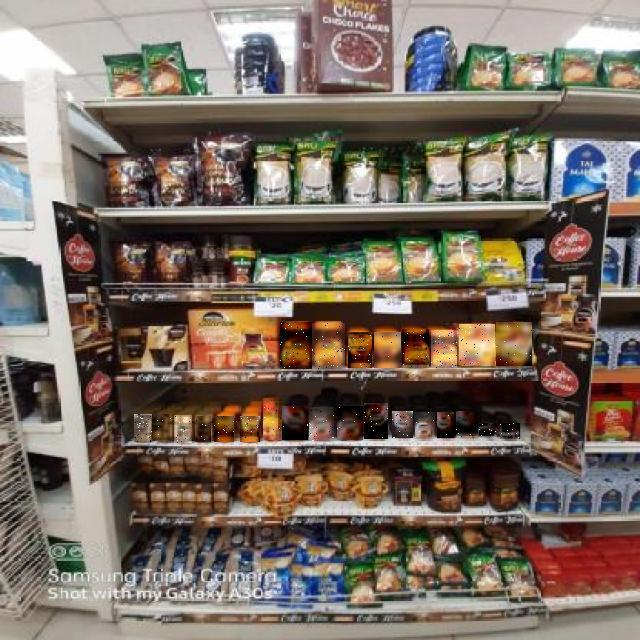Coffee: (496, 322, 532, 366), (312, 323, 345, 369), (280, 322, 312, 369), (459, 324, 495, 365), (402, 330, 429, 368), (431, 330, 457, 368), (374, 332, 401, 368), (337, 406, 363, 440), (283, 406, 309, 440), (310, 407, 336, 441), (348, 332, 372, 368), (364, 403, 388, 439), (264, 398, 282, 440), (392, 411, 413, 438), (457, 412, 478, 438), (414, 413, 435, 439), (438, 413, 458, 439), (240, 416, 260, 442), (215, 416, 235, 442), (134, 415, 152, 443), (174, 415, 192, 443), (154, 415, 172, 441), (195, 416, 211, 442), (500, 423, 520, 439), (480, 424, 498, 440)
